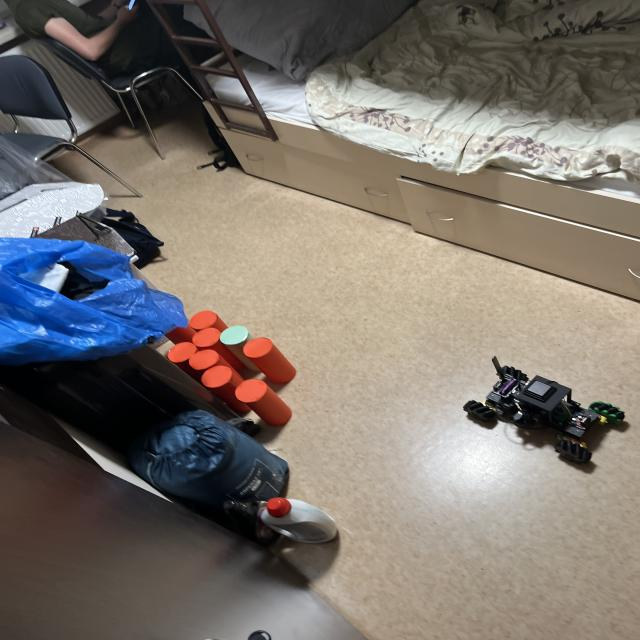robot: (463, 357, 624, 464)
